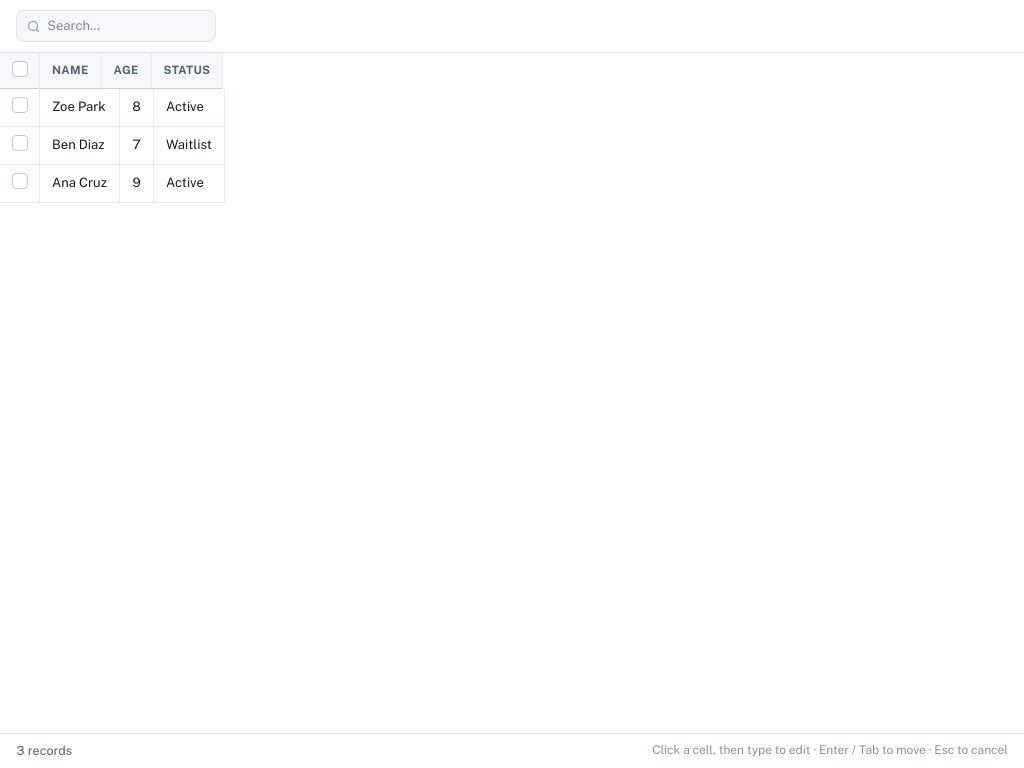
Test: DataGrid › selects rows and shows the bulk bar with count
This screenshot has width=1024, height=768.
Click the checkbox named "Select row" next to "Zoe Park" at (20, 105), box [12,97,28,113]
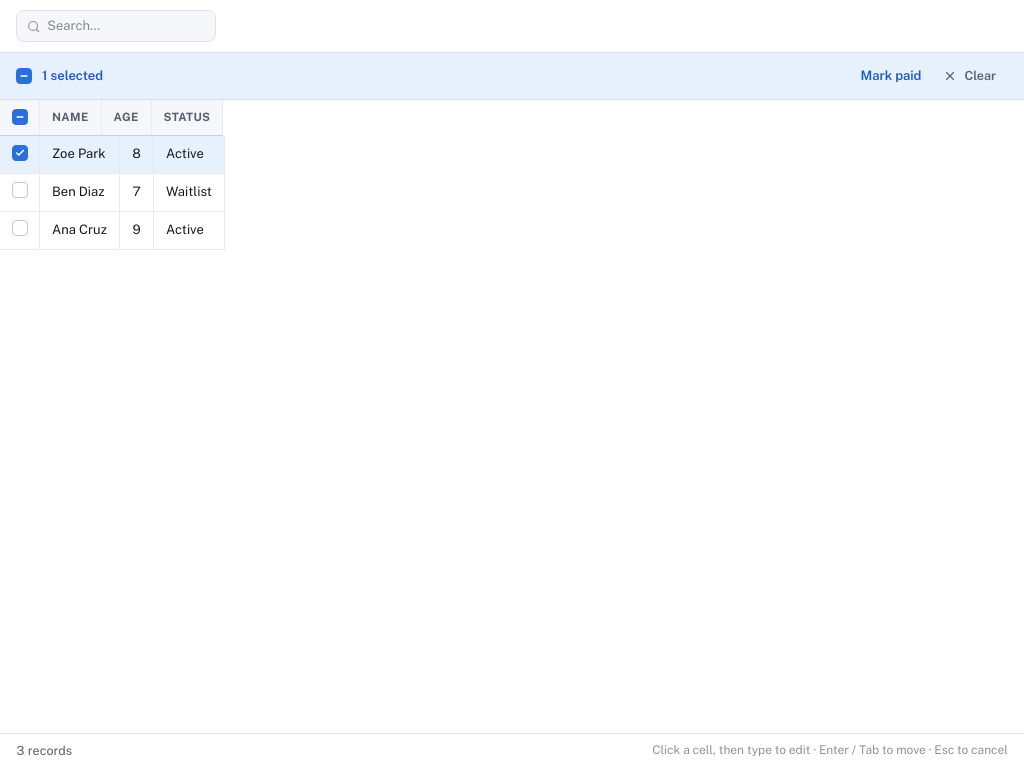
Click the checkbox named "Select row" next to "Ben Diaz" at (20, 190), box [12,182,28,198]
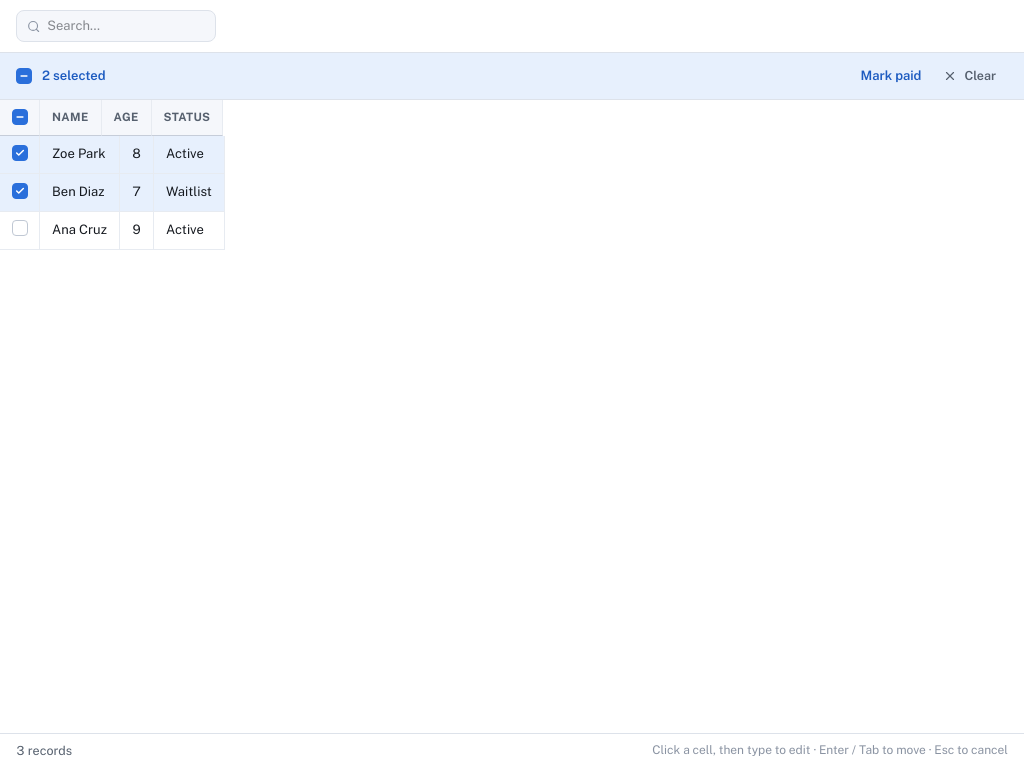
Check: the button "Mark paid" is shown, box [860,67,921,85]
Check: the text "2 selected" is shown, box [42,67,106,85]
Click the button "Clear" at (970, 76), box [932,61,1008,91]
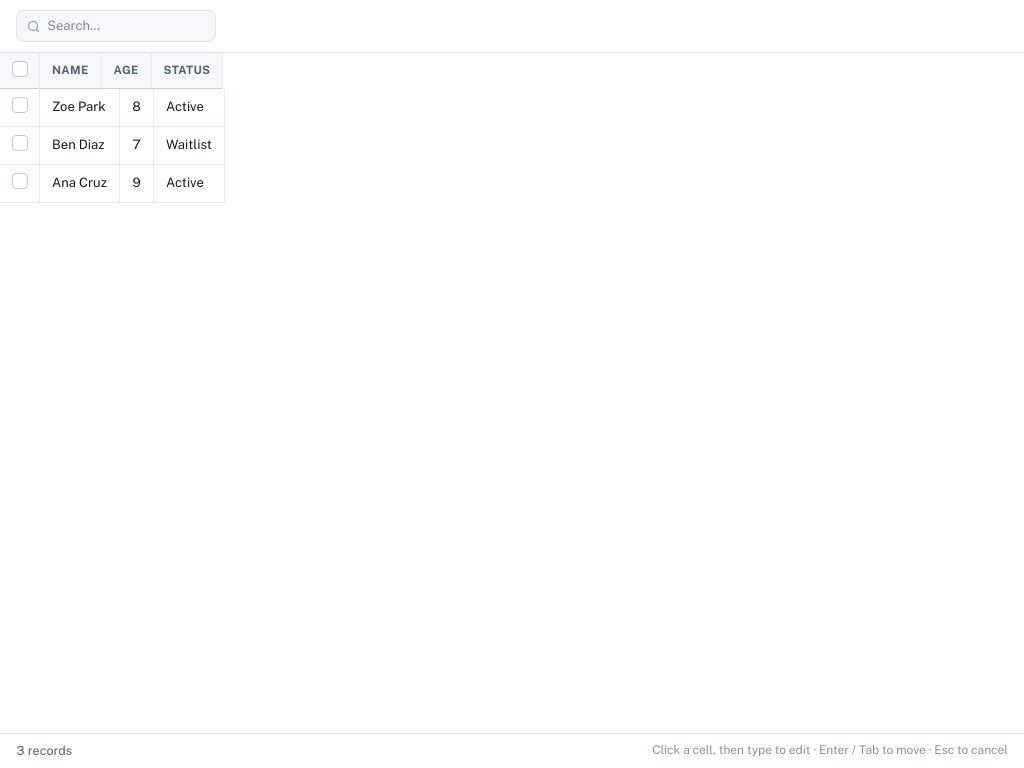
Check: the text "2 selected" is gone
